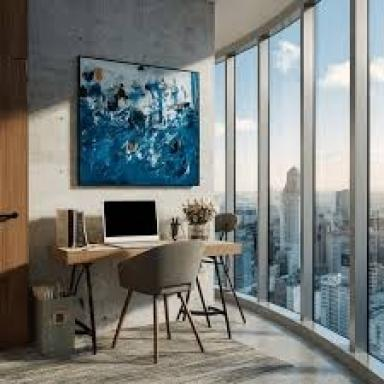glass_panel: (80, 60, 195, 182), (316, 2, 352, 346), (271, 17, 302, 314), (368, 1, 384, 365), (236, 44, 258, 297), (104, 201, 159, 244), (215, 60, 227, 239)
